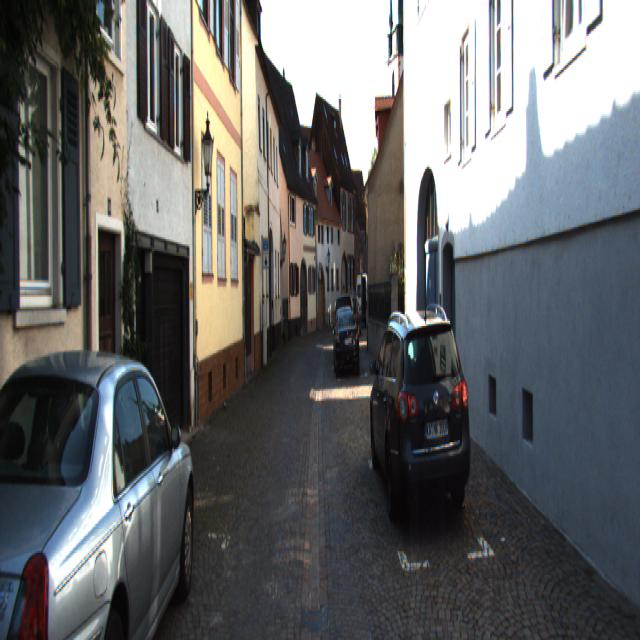Car: (0, 334, 199, 638), (368, 300, 472, 535), (334, 304, 358, 372), (356, 274, 378, 328)
